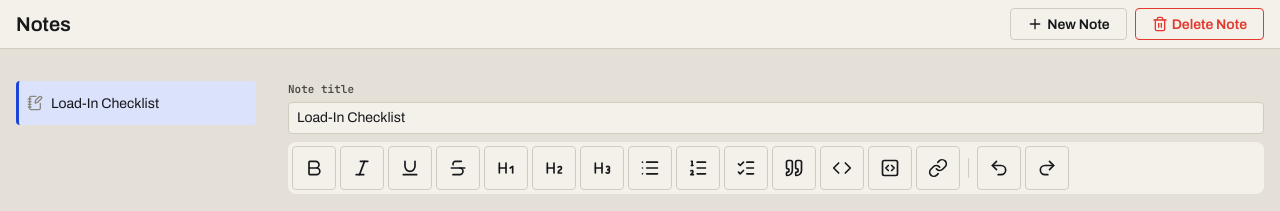
Test: NotesWorkspace › autosaves an edited title after a debounce, with no Save button anywhere
Expected: the button "Save" is not shown
Replace the text in the field labelled "Note title" with "Load-In & Strike Checklist" at [776, 118], box left=288, top=102, right=1264, bottom=134
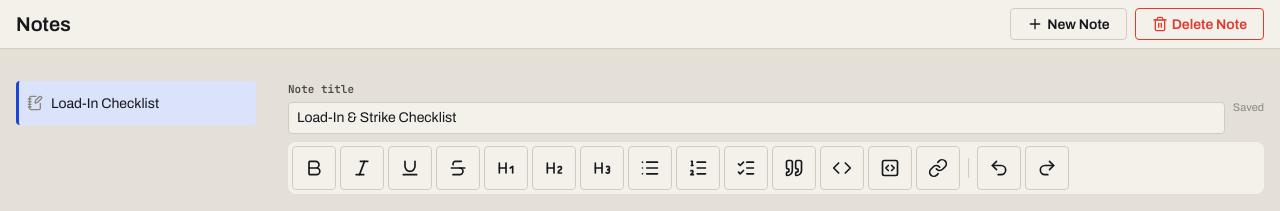
Now the text "Saved" is shown, box left=1233, top=99, right=1264, bottom=116
